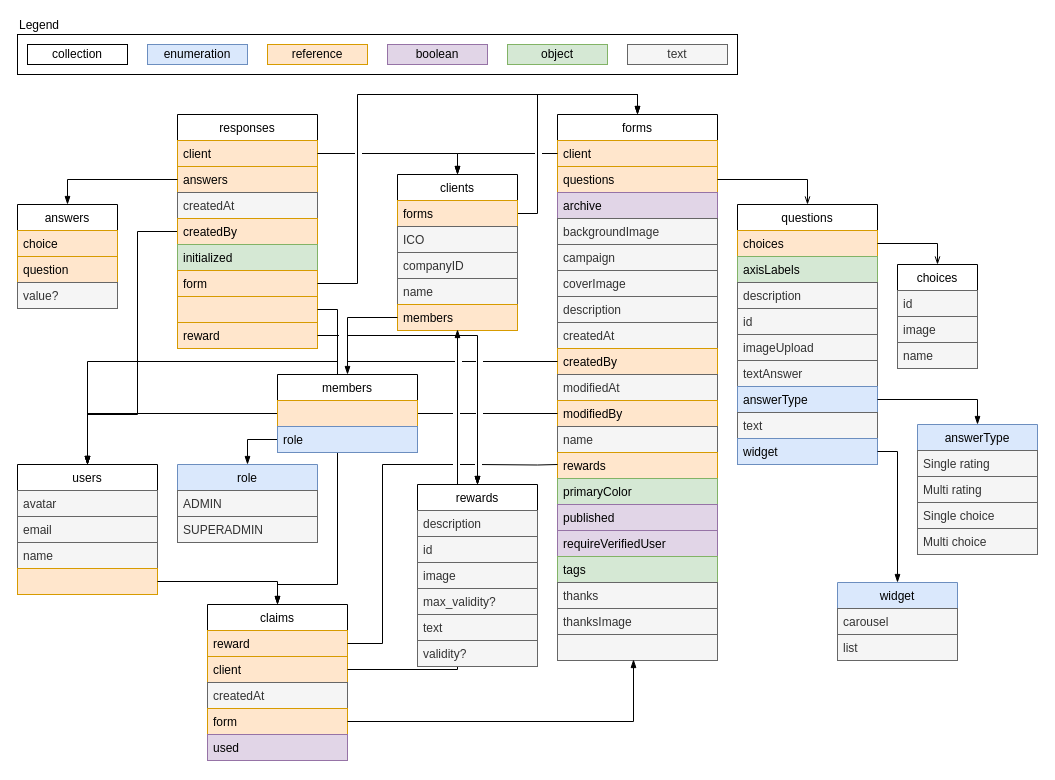
This 1055x780 diagram has some shape labels left out. The shapes that lost their labels are listed below. From the top down, each one's centre as x and y in pixels, then its label:
pixel 247 309: claim
pixel 347 413: user
pixel 87 581: claims?
pixel 637 647: thanksTitle
